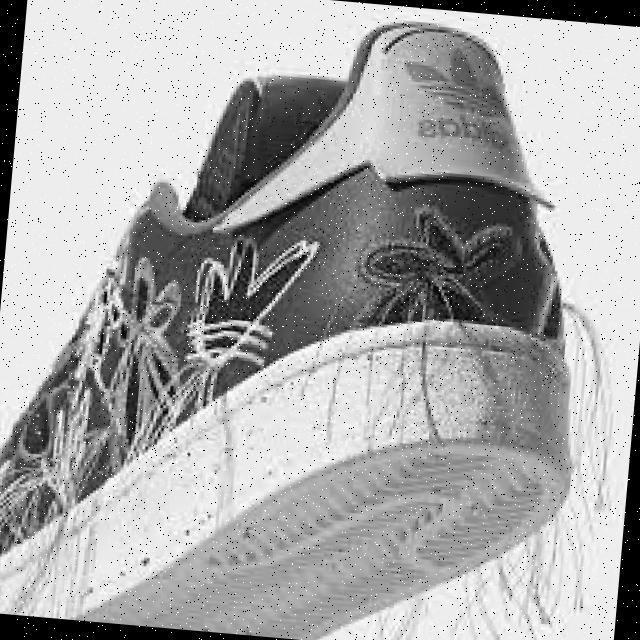Adidas: (397, 35, 531, 126)
